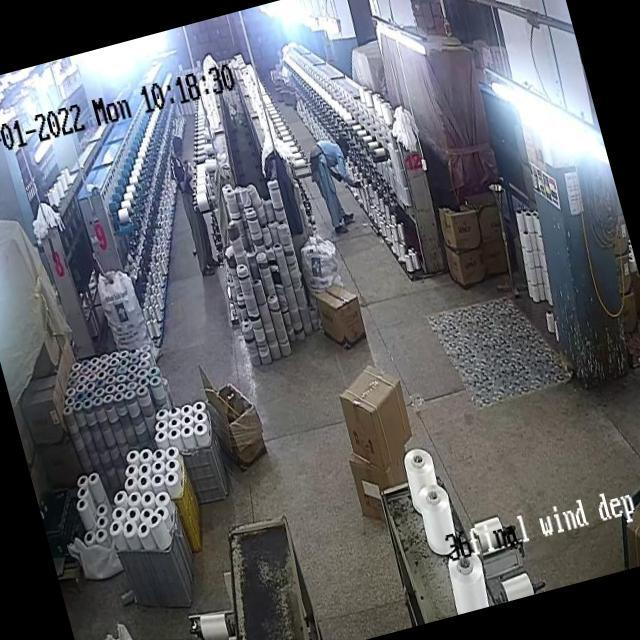person: (162, 140, 218, 280), (304, 124, 371, 228)
